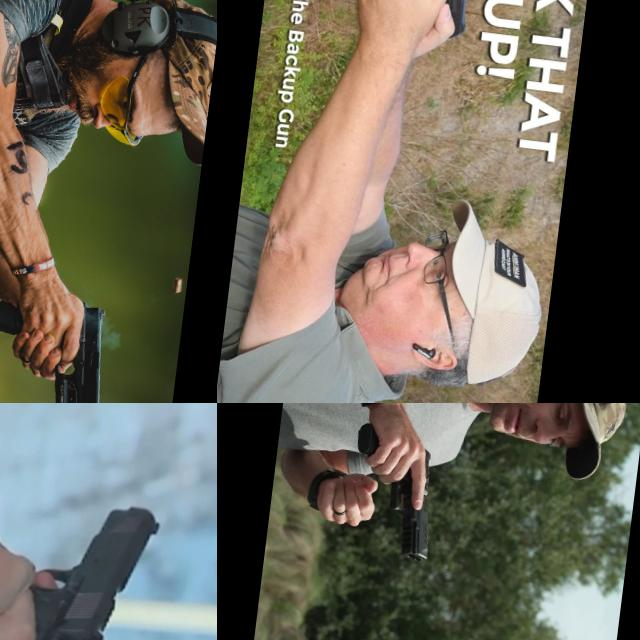handgun: (16, 492, 162, 640), (43, 294, 118, 403), (380, 446, 442, 566), (423, 0, 478, 57)
